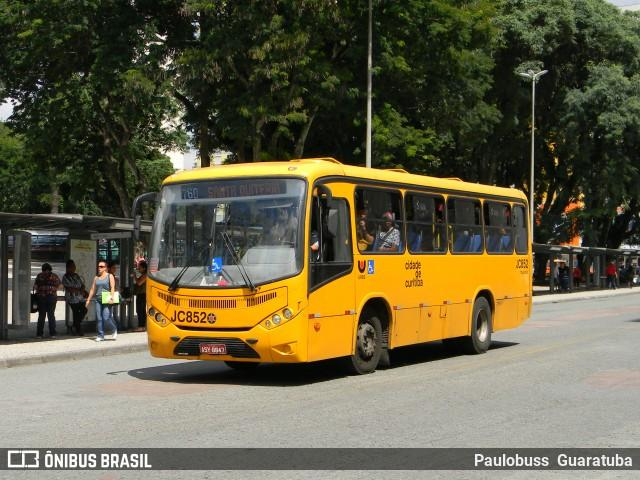SANTA QUITERIA: (205, 181, 286, 201)
